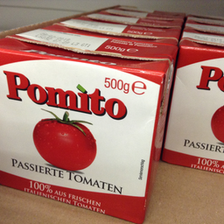tomato_sauce: (1, 24, 180, 223)
